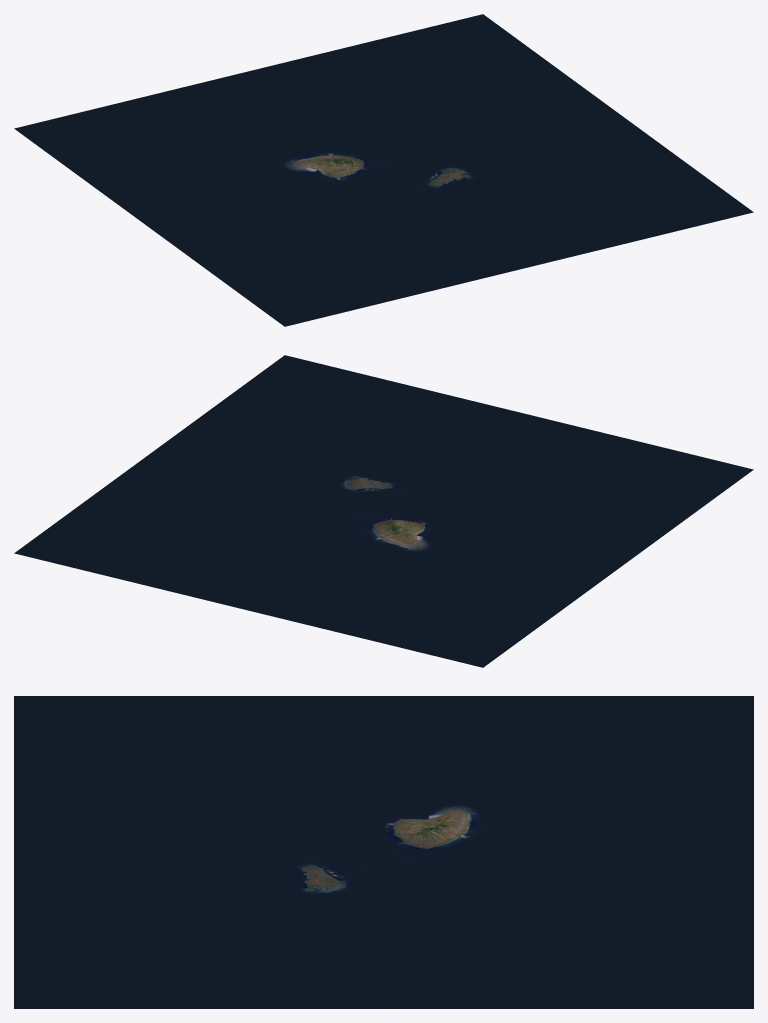
Rendered from HawaiiMapThing.fbx.
3 renders of one model, top to bottom at view 1: azimuth 30°, elevation 25°; view 2: azimuth 150°, elevation 25°; view 3: azimuth 270°, elevation 25°, orthographic. The views are drawn at different scales.
Parts seen in each view (by area): view 1: Plane; view 2: Plane; view 3: Plane.
Part boxes in pixels (x1,y1,x2,y2): Plane: (14, 14, 753, 326); Plane: (14, 355, 753, 667); Plane: (14, 696, 753, 1008).
Size of the model in its own units: 600 by 600 by 5.86.
